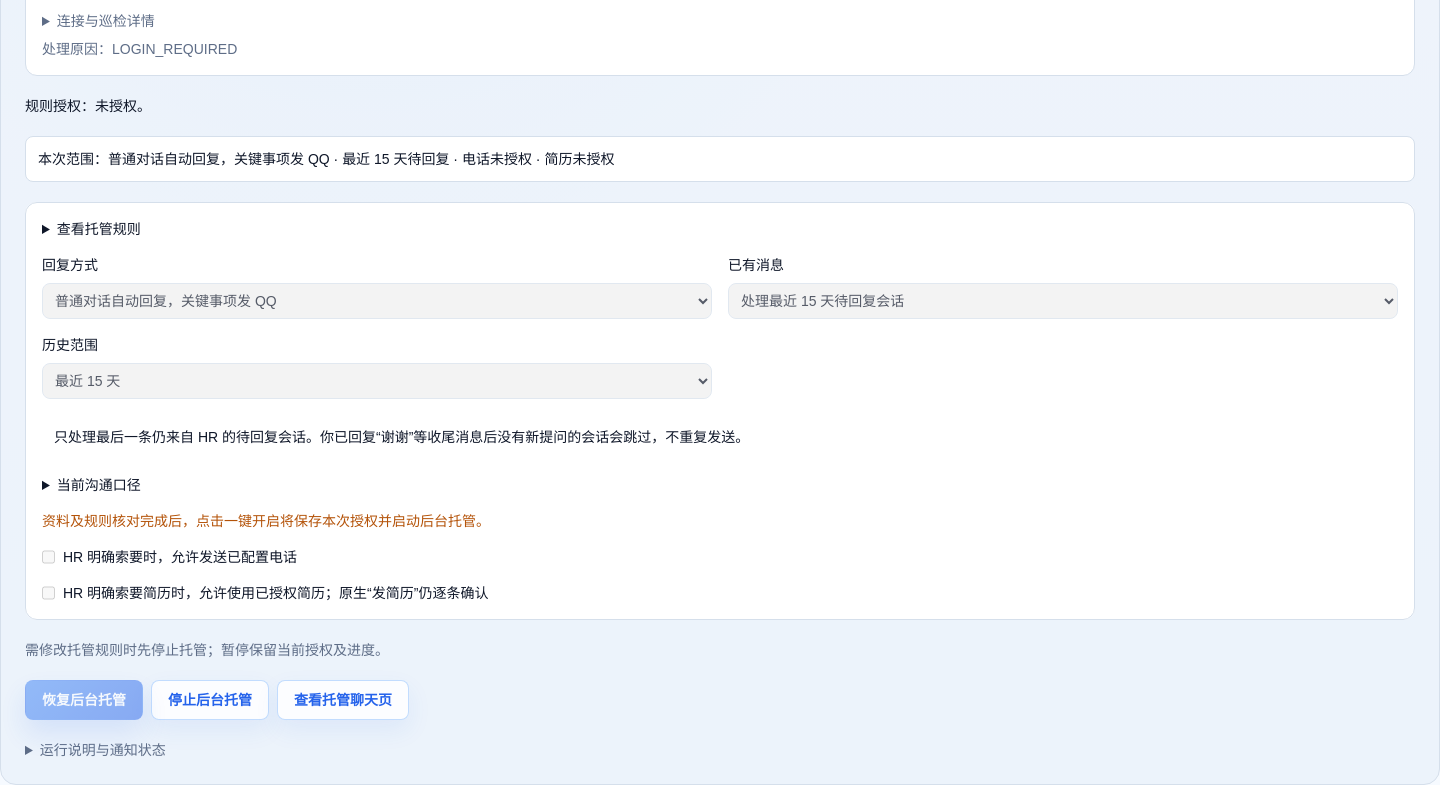
Test: only displays the bound browser page after an explicit view click
(page scrolled)
Click the button "查看托管聊天页": click(343, 700) [277, 680, 409, 720]
(page scrolled)
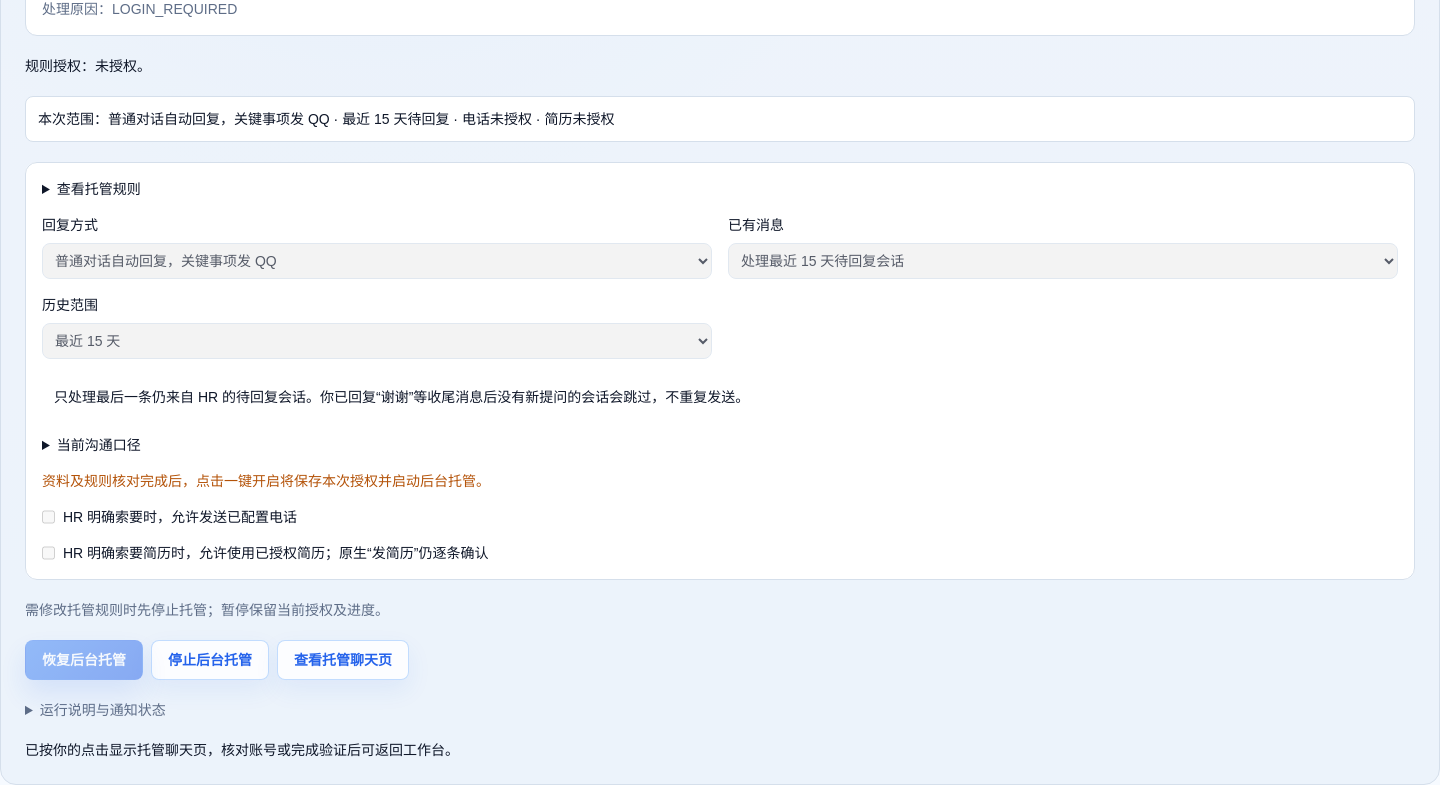
Result: the text "已按你的点击显示托管聊天页，核对账号或完成验证后可返回工作台。" is shown at [25, 742, 459, 758]
